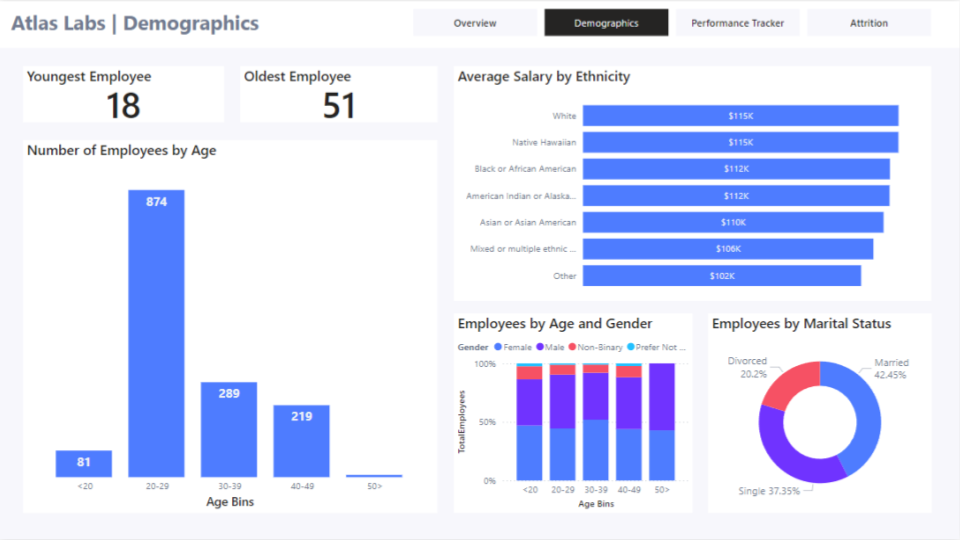

The page's visual inventory and layout, read from the dashboard file:
{"tool":"powerbi","page":{"name":"Demographics","canvas":[1280,720],"ordinal":1},"visuals":[{"type":"card","title":"Youngest Employee","fields":{"Values":["Min(DimEmployee.Age)"]},"box":[32.3,86.9,267.7,74.7],"z":0},{"type":"card","title":"Oldest Employee","fields":{"Values":["Max(DimEmployee.Age)"]},"box":[321.2,86.9,262.6,74.7],"z":1000},{"type":"columnChart","title":"Number of Employees by Age","fields":{"Y":["_Measures.TotalEmployees"],"Category":["DimEmployee.AgeBins"]},"box":[32.3,185.9,551.5,499],"z":2000},{"type":"hundredPercentStackedColumnChart","title":"Employees by Age and Gender","fields":{"Y":["_Measures.TotalEmployees"],"Category":["DimEmployee.AgeBins"],"Series":["DimEmployee.Gender"]},"box":[606.1,418.2,318.2,266.7],"z":3000},{"type":"donutChart","title":"Employees by Marital Status","fields":{"Category":["DimEmployee.MaritalStatus"],"Y":["_Measures.TotalEmployees"]},"box":[944.4,418.2,298,266.7],"z":4000},{"type":"clusteredBarChart","title":"Average Salary by Ethnicity","fields":{"Y":["_Measures.AverageSalary"],"Category":["DimEmployee.Ethnicity"]},"box":[606.1,86.9,636.4,314.1],"z":5000},{"type":"shape","box":[0,0,1279.8,62.6],"z":6000},{"type":"pageNavigator","box":[551.5,11.1,690.9,36.4],"z":7000},{"type":"textbox","box":[97,5.1,258.6,51.5],"z":8000},{"type":"textbox","box":[10.1,5.1,393.9,51.5],"z":9000}]}

Visuals, with their boxes in screenshot pixels (x1, y1, x2, y2), scaled from the page's 1280x720 canvas onto the 960x540 screenshot:
"Youngest Employee" card: 24:65:225:121
"Oldest Employee" card: 241:65:438:121
"Number of Employees by Age" columnChart: 24:139:438:514
"Employees by Age and Gender" hundredPercentStackedColumnChart: 455:314:693:514
"Employees by Marital Status" donutChart: 708:314:932:514
"Average Salary by Ethnicity" clusteredBarChart: 455:65:932:301
shape: 0:0:959:47
pageNavigator: 414:8:932:36
textbox: 73:4:267:42
textbox: 8:4:303:42
